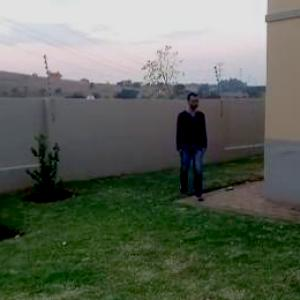follow: (171, 87, 210, 208)
